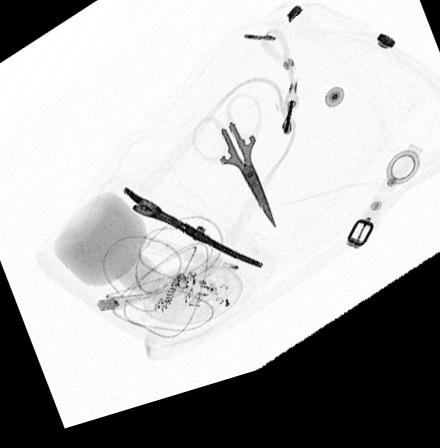Scissors: (119, 188, 267, 290), (190, 104, 277, 249)
